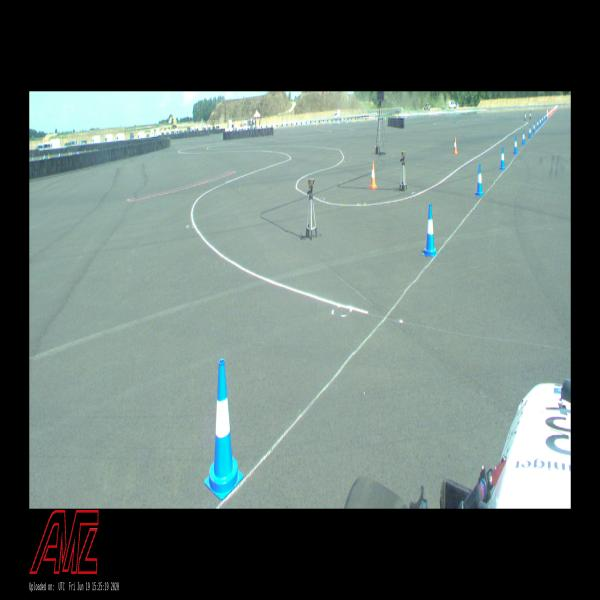blue_cone: (204, 359, 244, 500), (423, 204, 437, 257), (475, 164, 484, 196), (500, 147, 506, 170), (513, 136, 518, 154), (528, 126, 532, 138), (522, 130, 525, 145), (532, 122, 536, 133), (537, 119, 539, 129), (540, 118, 542, 127), (542, 115, 544, 124), (545, 114, 547, 120), (544, 114, 545, 122)
orange_cone: (370, 162, 377, 189), (453, 138, 458, 153)
